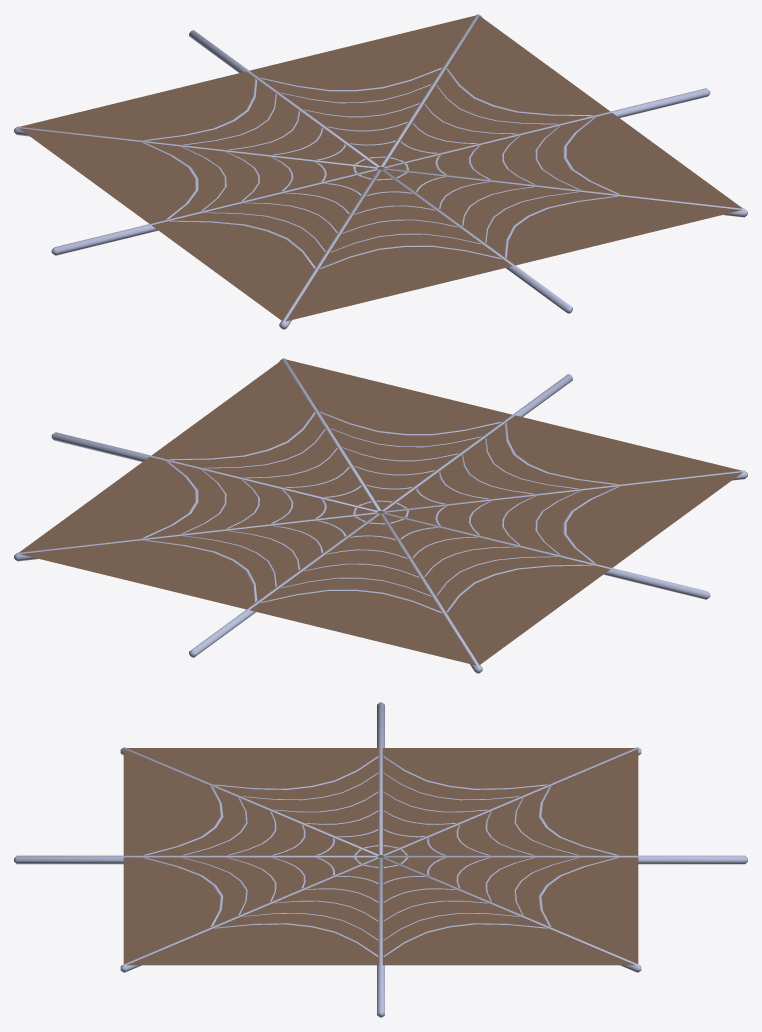
Rendered from SM_Blockout_Ceiling_02.fbx.
The picture shows the model from 3 angles, top to bottom: view 1: azimuth 30°, elevation 25°; view 2: azimuth 150°, elevation 25°; view 3: azimuth 270°, elevation 25°; orthographic projection. The views are drawn at different scales.
Parts seen in each view (by area): view 1: Ceiling_1; view 2: Ceiling_1; view 3: Ceiling_1.
Part boxes in pixels (left/top/right/bottom): Ceiling_1: left=14, top=14, right=747, bottom=329; Ceiling_1: left=14, top=358, right=747, bottom=673; Ceiling_1: left=14, top=702, right=747, bottom=1017.
Size of the model in its own units: 1426 by 15.5 by 1426.
